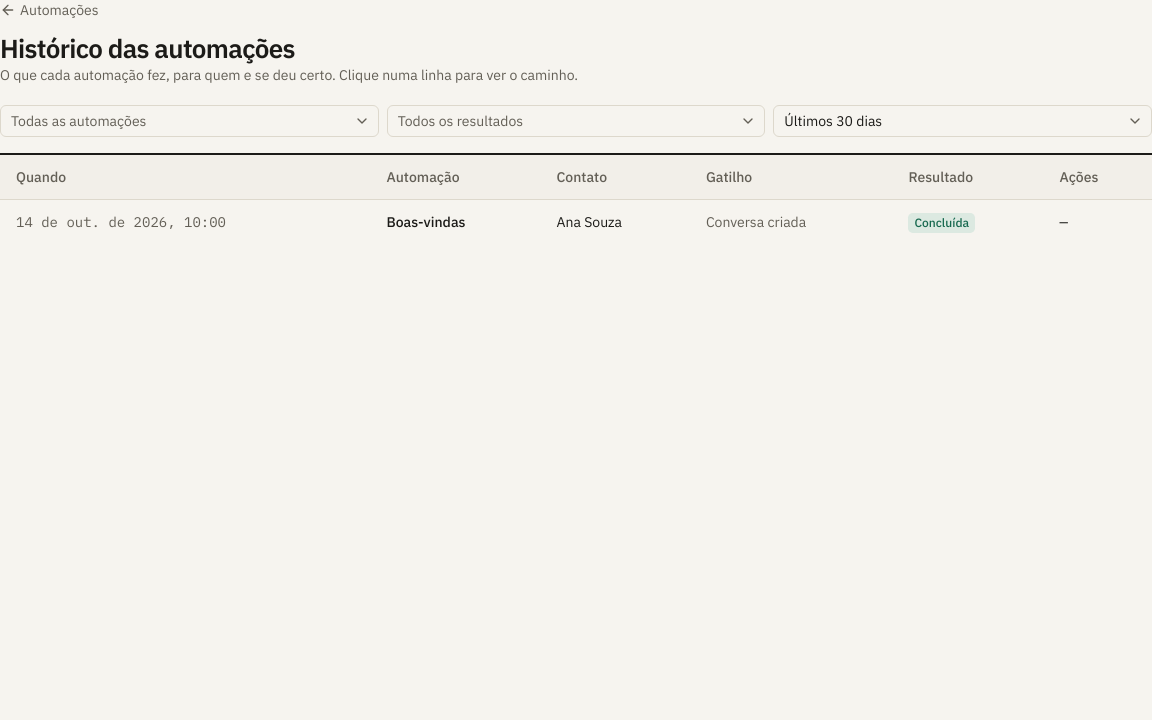
B22-15 — detalhe da execução com botão de fechar (M12) › o detalhe tem 'Fechar', e ele fecha
The width and height of the screenshot is (1152, 720).
Click the button "Boas-vindas" at [426, 222], box x1=386 y1=212 x2=466 y2=232
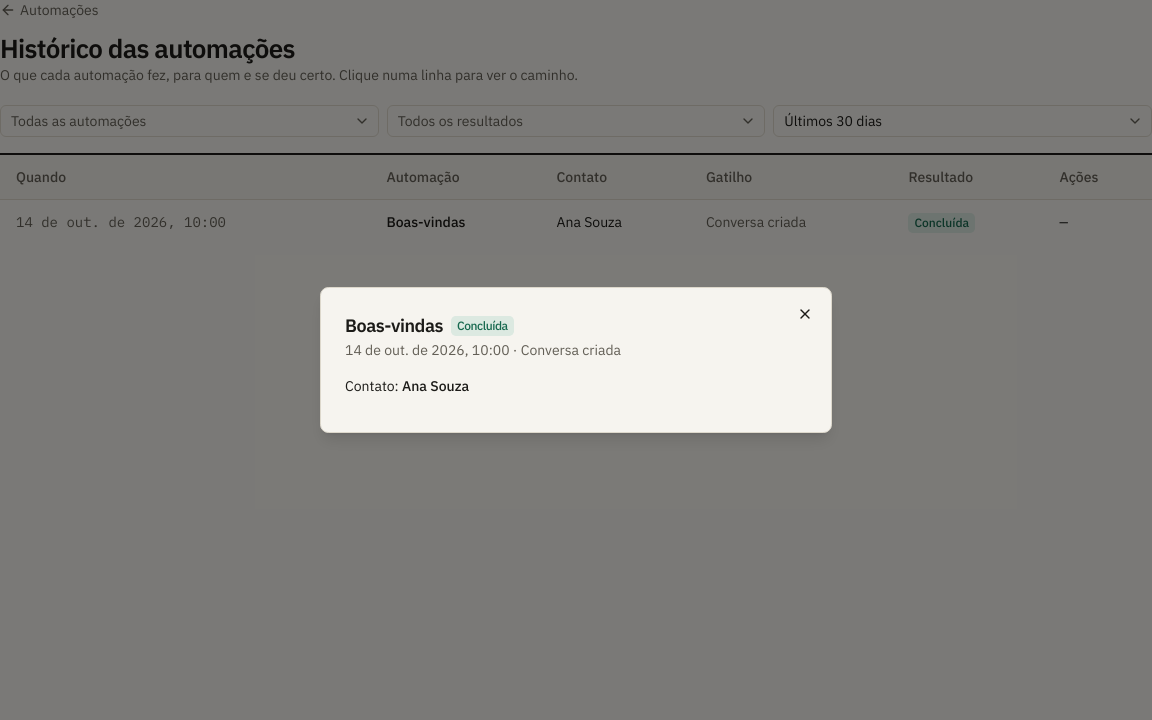
Expected: the dialog is shown, x1=320 y1=287 x2=832 y2=433
Click the button named "Fechar" at [805, 314], box x1=791 y1=300 x2=819 y2=328
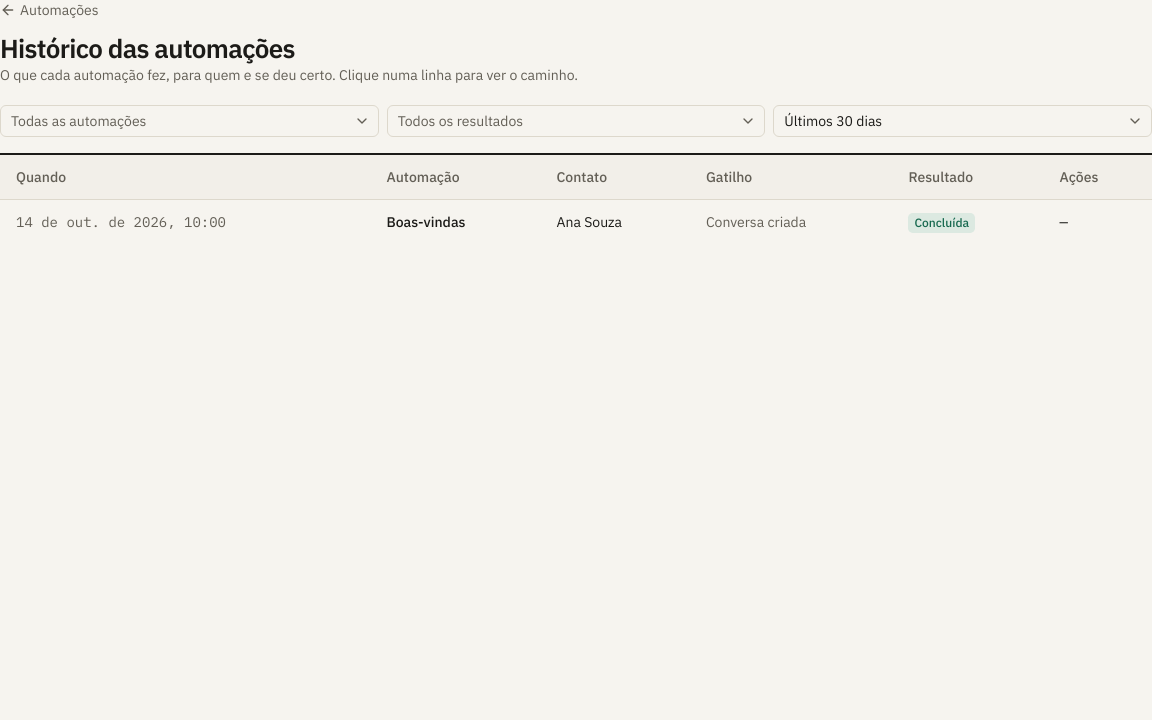
Expected: the dialog is gone
